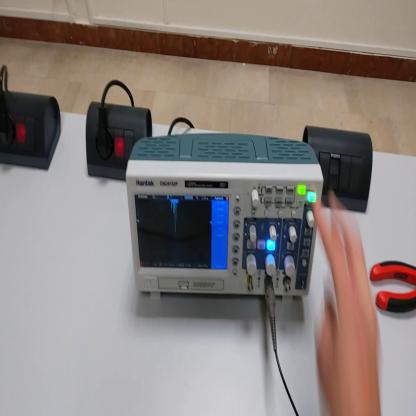hand: (314, 192, 384, 415)
oscilloscope: (125, 131, 323, 305)
pliers: (372, 260, 416, 321)
socket: (86, 104, 155, 183), (1, 89, 64, 172)
